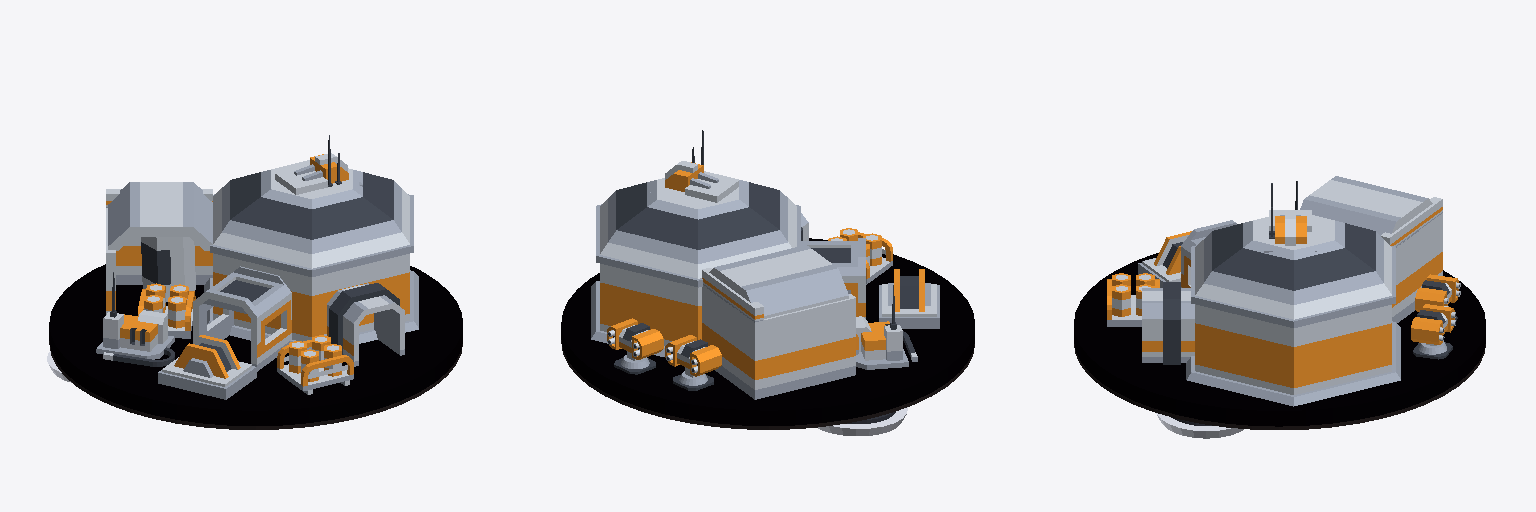
The model's file is power_station.obj.
3 renders of one model, left to right at view 1: azimuth 30°, elevation 25°; view 2: azimuth 150°, elevation 25°; view 3: azimuth 270°, elevation 25°, orthographic.
Visible parts, largest first — view 1: base, hangar_roundB, corridor_window, corridor_roof, corridor_detailed, machine_generatorLarge, machine_wirelessCable, barrels_rail, pipe_straight, barrels_rail.003, machine_wireless, corridor_wall (+1 smaller); view 2: base, hangar_roundB, corridor_wall.001, corridor_roof, corridor_wall, machine_generatorLarge, machine_wirelessCable, turret_double.001, turret_double.002, corridor_window, machine_wireless, barrels_rail (+1 smaller); view 3: hangar_roundB, base, corridor_roof, corridor_detailed, corridor_wall, barrels_rail, turret_double.001, machine_wireless, machine_generatorLarge, turret_double.002, corridor_wall.002, corridor_window.
Part boxes in pixels (bbox=[...]): base: bbox=[47, 264, 462, 429]; hangar_roundB: bbox=[204, 160, 418, 349]; corridor_window: bbox=[193, 266, 291, 371]; corridor_roof: bbox=[108, 182, 212, 250]; corridor_detailed: bbox=[327, 283, 404, 366]; machine_generatorLarge: bbox=[158, 335, 256, 399]; machine_wirelessCable: bbox=[96, 272, 174, 366]; barrels_rail: bbox=[277, 335, 353, 394]; pipe_straight: bbox=[141, 237, 195, 301]; barrels_rail.003: bbox=[138, 283, 195, 338]; machine_wireless: bbox=[275, 135, 362, 194]; corridor_wall: bbox=[116, 237, 212, 284]; base: bbox=[561, 238, 974, 435]; hangar_roundB: bbox=[591, 171, 800, 356]; corridor_wall.001: bbox=[764, 294, 855, 397]; corridor_roof: bbox=[709, 245, 848, 318]; corridor_wall: bbox=[702, 285, 763, 399]; machine_generatorLarge: bbox=[879, 269, 939, 328]; machine_wirelessCable: bbox=[856, 285, 917, 369]; turret_double.001: bbox=[607, 318, 663, 374]; turret_double.002: bbox=[665, 335, 721, 390]; corridor_window: bbox=[801, 238, 865, 318]; machine_wireless: bbox=[650, 130, 738, 202]; barrels_rail: bbox=[828, 228, 892, 284]; hangar_roundB: bbox=[1186, 215, 1400, 406]; base: bbox=[1074, 253, 1485, 438]; corridor_roof: bbox=[1300, 176, 1432, 235]; corridor_detailed: bbox=[1142, 282, 1194, 364]; corridor_wall: bbox=[1392, 213, 1442, 322]; barrels_rail: bbox=[1107, 273, 1159, 326]; turret_double.001: bbox=[1411, 304, 1455, 359]; machine_wireless: bbox=[1264, 183, 1316, 253]; machine_generatorLarge: bbox=[1138, 231, 1191, 287]; turret_double.002: bbox=[1415, 274, 1460, 320]; corridor_wall.002: bbox=[1381, 197, 1442, 247]; corridor_window: bbox=[1181, 220, 1236, 287].
Bounding box in the file's own units: 3.88 × 2.2 × 3.86.